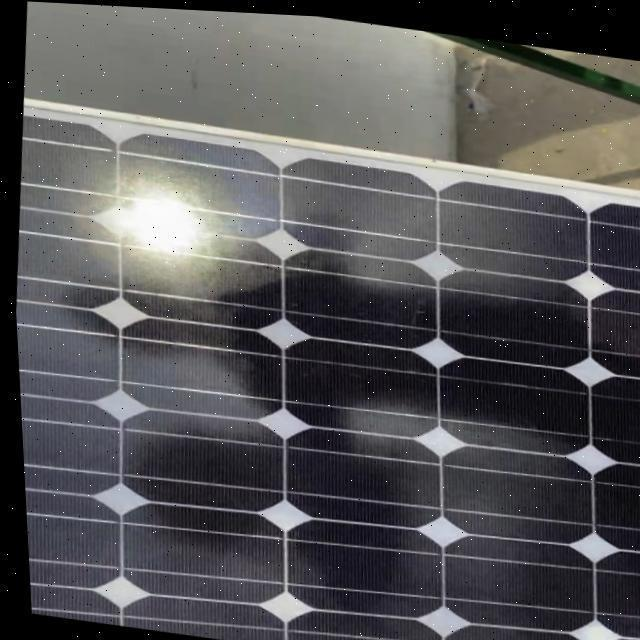Normal Solar Panel: (4, 99, 640, 640)
